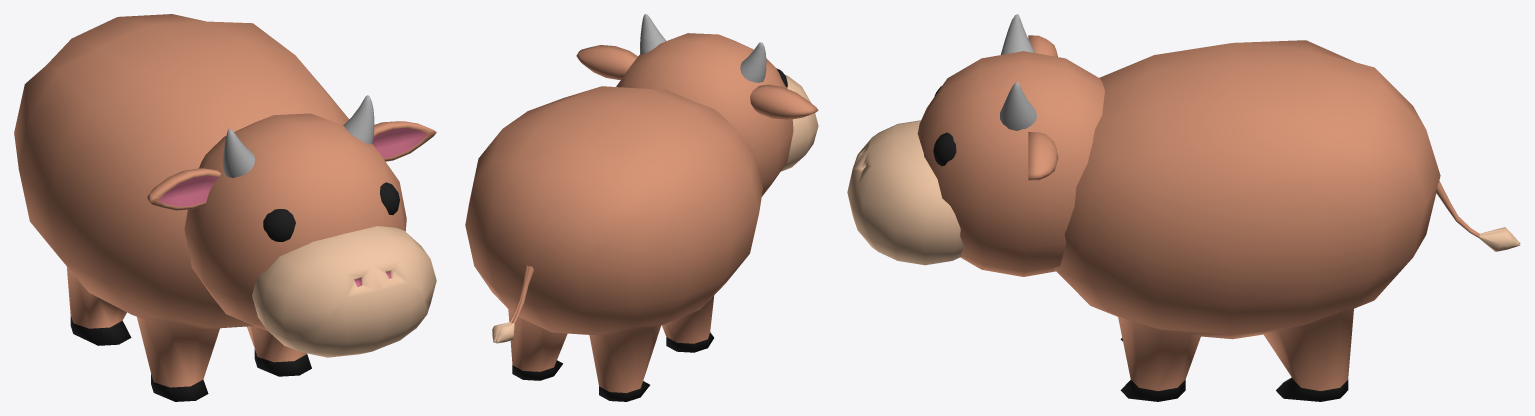
The model's file is Cow.fbx.
The picture shows the model from 3 angles, left to right: view 1: azimuth 30°, elevation 25°; view 2: azimuth 150°, elevation 25°; view 3: azimuth 270°, elevation 25°; orthographic projection. The views are drawn at different scales.
Visible parts, largest first — view 1: Cow.004 yy; view 2: Cow.004 yy; view 3: Cow.004 yy.
Boxes of the visible parts, box(x1,y1,x2,y2) form: Cow.004 yy: box(14, 14, 436, 401); Cow.004 yy: box(465, 14, 818, 401); Cow.004 yy: box(847, 14, 1520, 401).
Bounding box in the file's own units: 196 × 204 × 394.
Materials: 1 (1 with a texture image).
